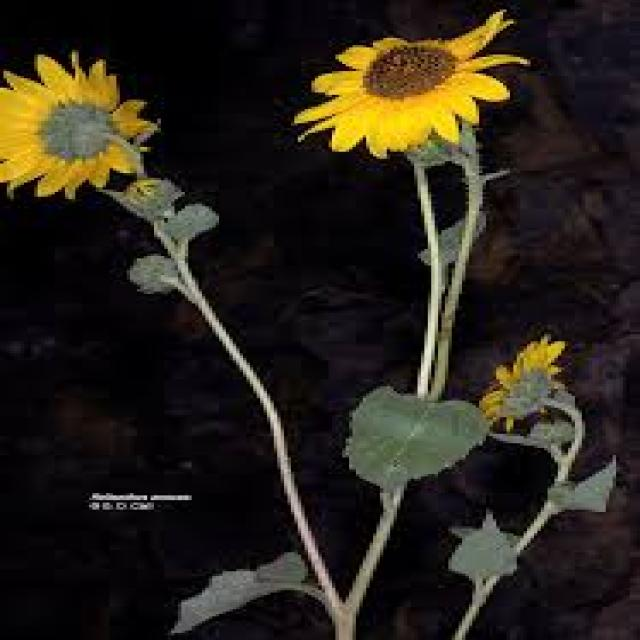sunflower: (276, 7, 545, 165), (0, 44, 182, 205), (466, 333, 584, 435)
